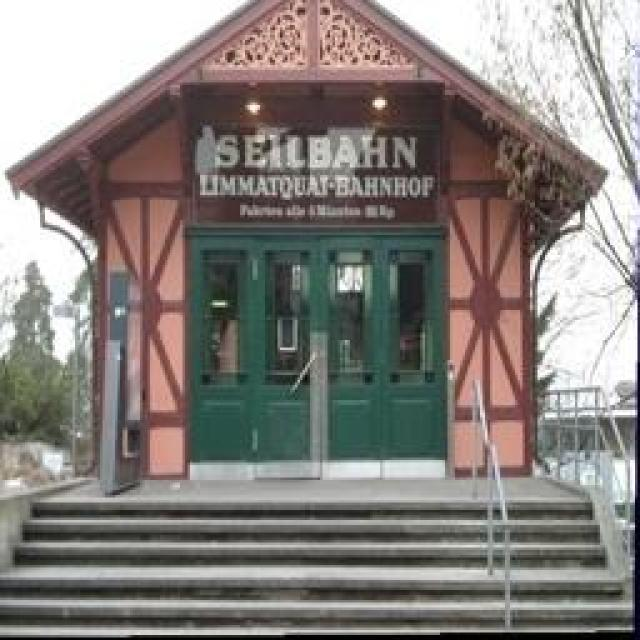building: (8, 3, 592, 485)
